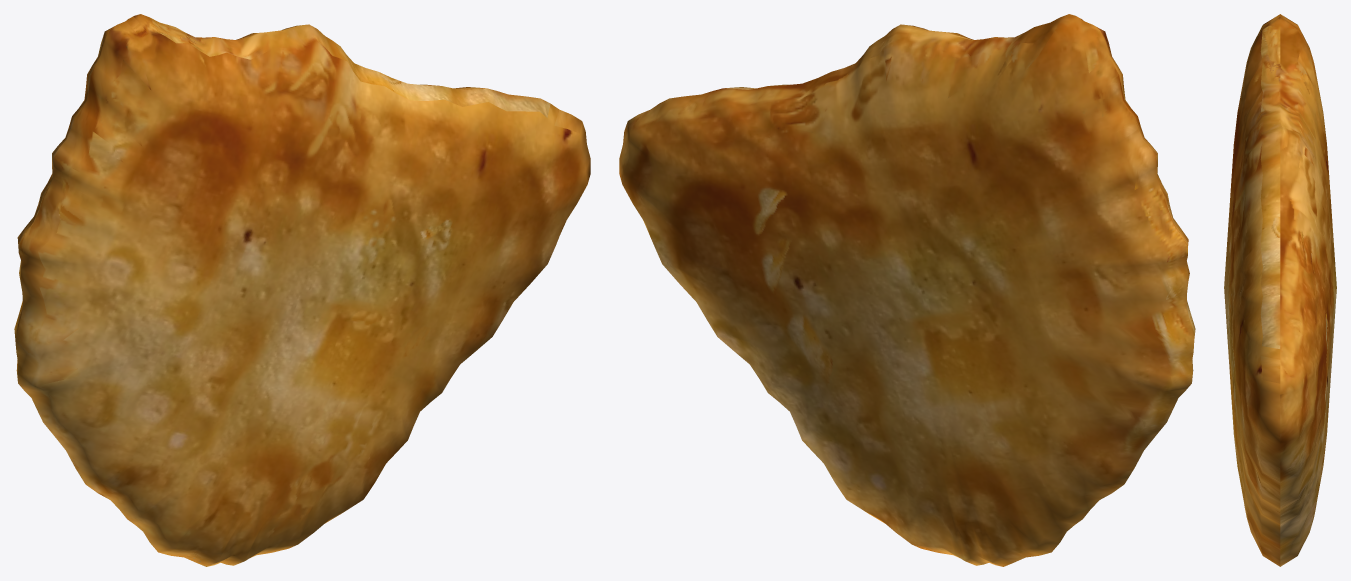
The model's file is samosaReal.glb.
The picture shows the model from 3 angles, left to right: view 1: azimuth 30°, elevation 25°; view 2: azimuth 150°, elevation 25°; view 3: azimuth 270°, elevation 25°; orthographic projection. The views are drawn at different scales.
Parts seen in each view (by area): view 1: Plane; view 2: Plane; view 3: Plane.
Part boxes in pixels (bbox=[...]): Plane: bbox=[14, 14, 590, 566]; Plane: bbox=[619, 14, 1195, 566]; Plane: bbox=[1224, 14, 1336, 566].
Bounding box in the file's own units: 3.27 × 3.12 × 0.6567.
Materials: 1 (1 with a texture image).
